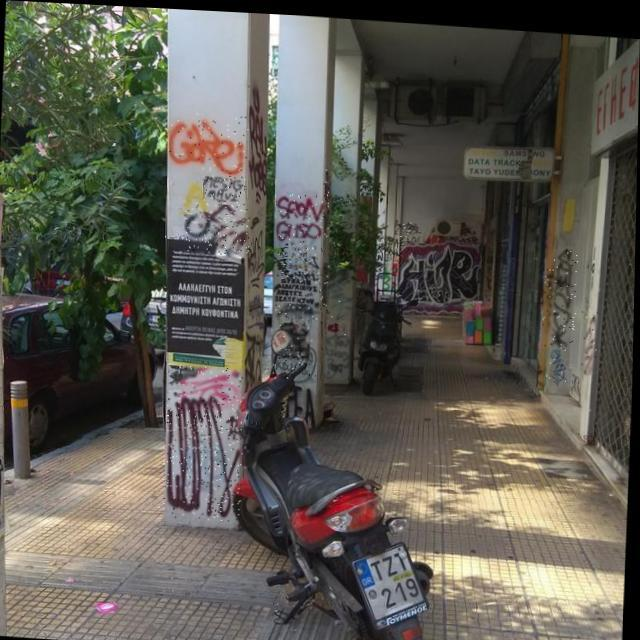-: (165, 389, 246, 518), (166, 110, 249, 172), (542, 242, 580, 342), (184, 200, 251, 254), (182, 362, 245, 410), (274, 190, 326, 242), (277, 242, 324, 280), (274, 338, 318, 378), (324, 328, 354, 377), (203, 172, 246, 204), (329, 265, 354, 315), (580, 304, 598, 368), (280, 319, 316, 348), (547, 341, 573, 378), (276, 298, 322, 316), (322, 166, 332, 233), (320, 254, 330, 306), (402, 217, 422, 238), (382, 259, 392, 289)
